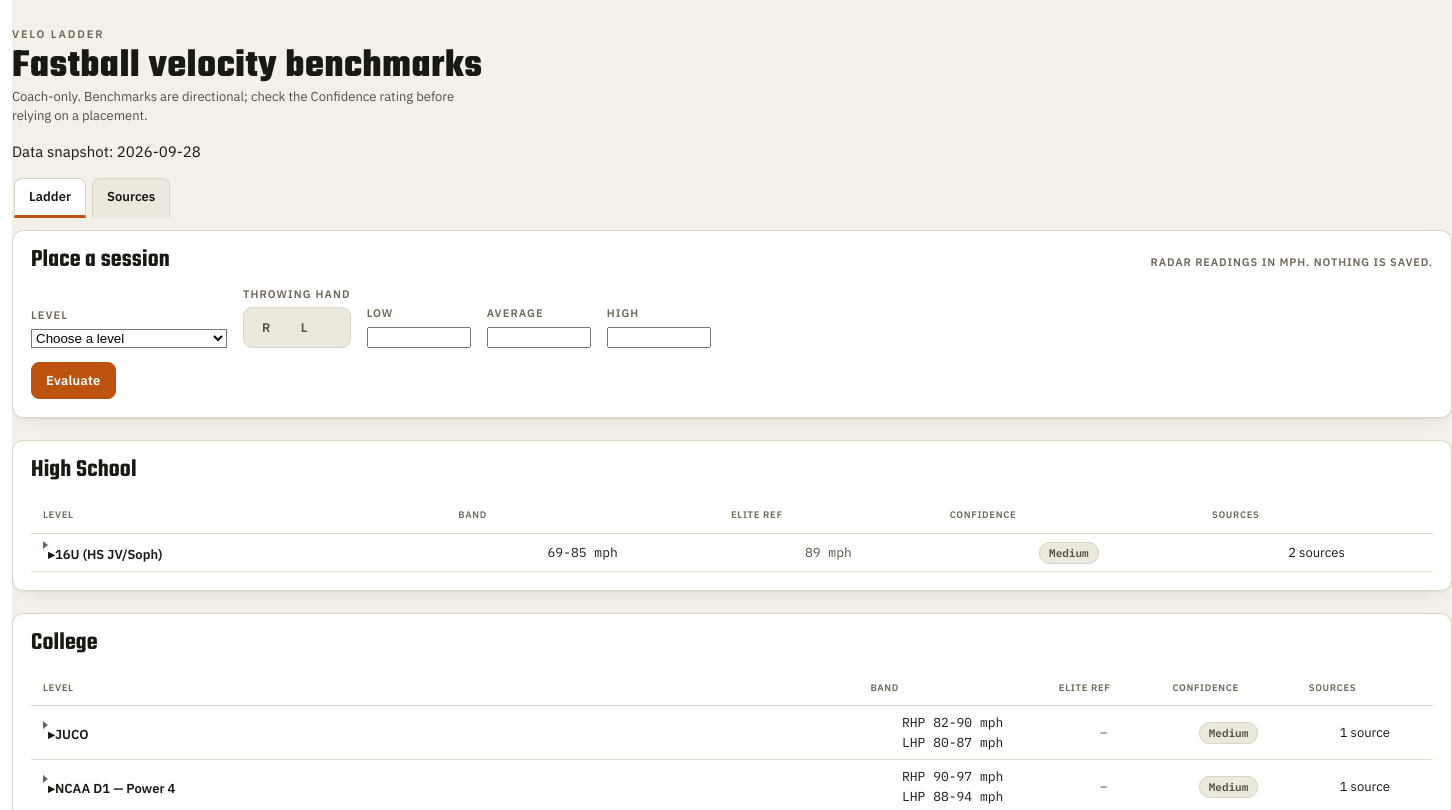
Test: an empty row cannot be evaluated even if the select is forced onto it
Select "MiLB — AAA (No data yet)" in the dropdown labelled "Level": point(129, 338) [31,329,227,348]
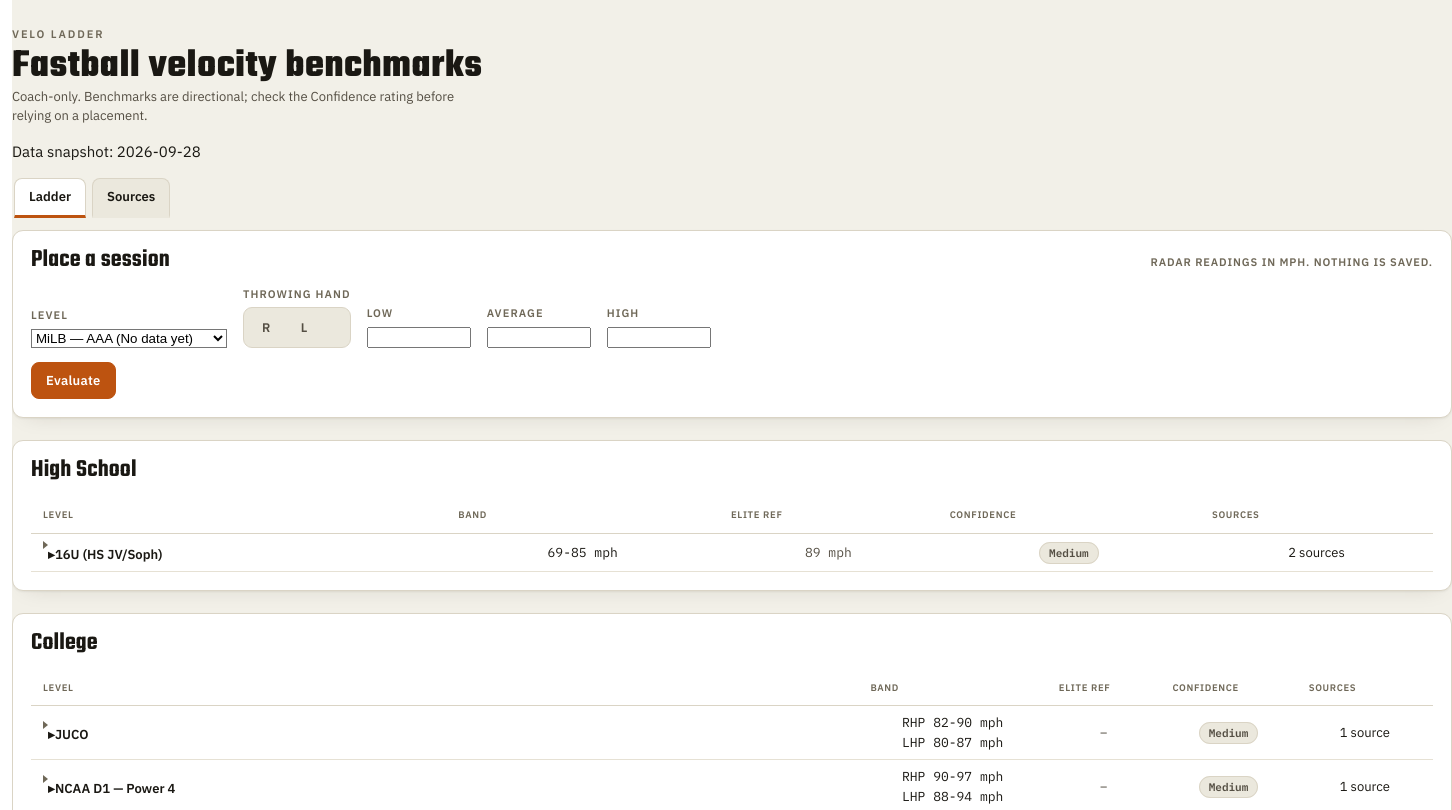
In the number field labelled "Low": point(419, 337) [367,327,471,348], type "74"
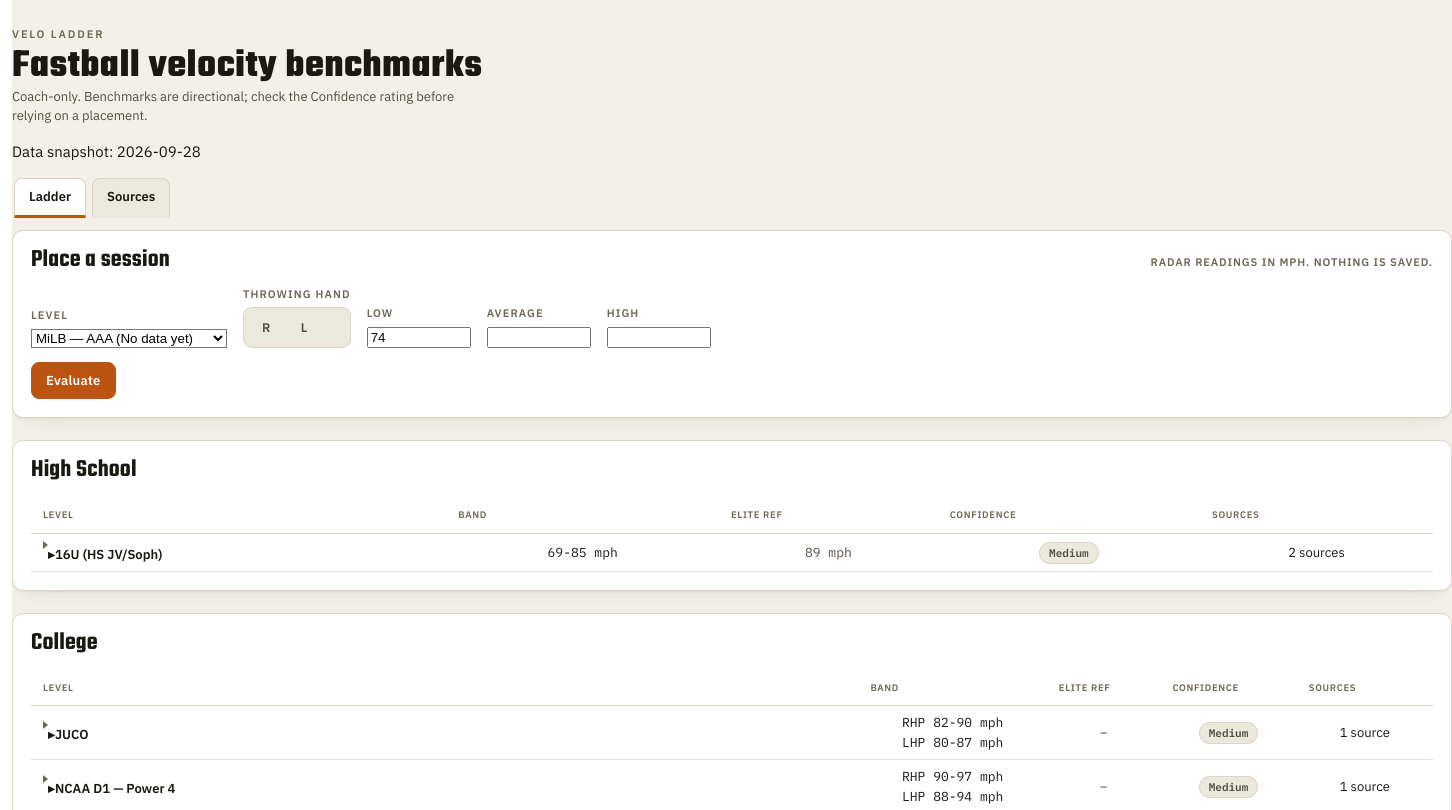
In the number field labelled "Average": point(539, 337) [487,327,591,348], type "79"
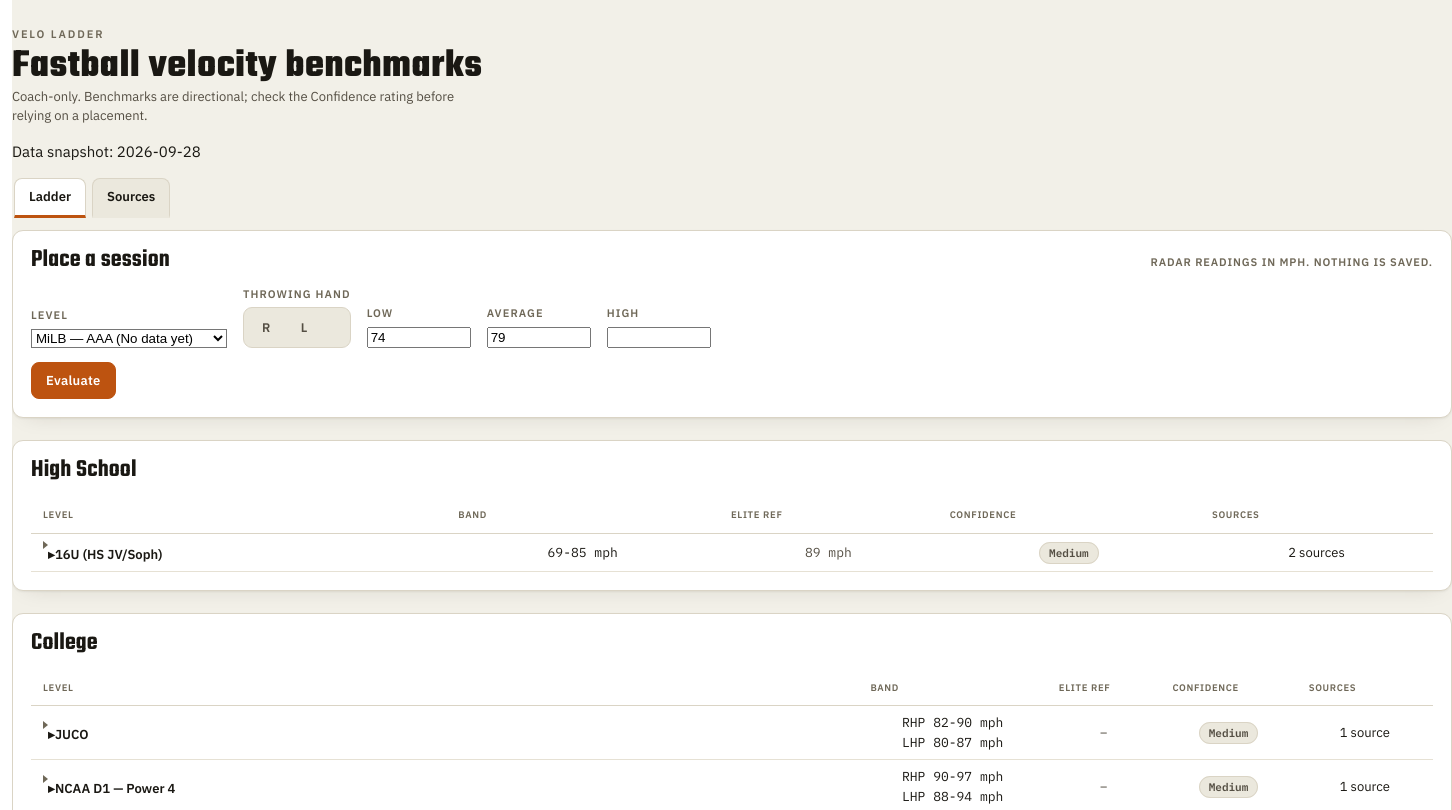
In the number field labelled "High": point(659, 337) [607,327,711,348], type "83"
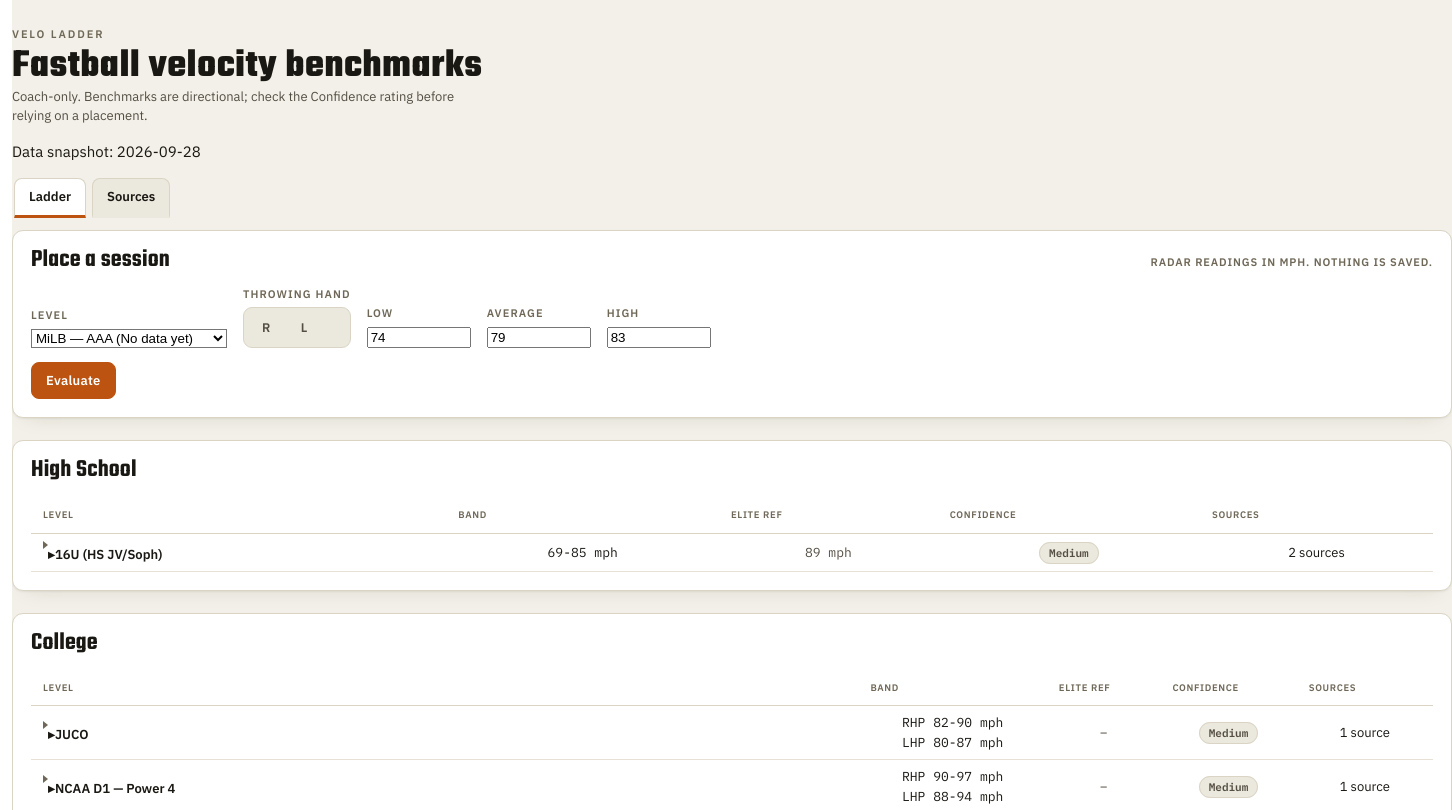
Click the button "Evaluate": point(73, 381) [31,362,116,399]
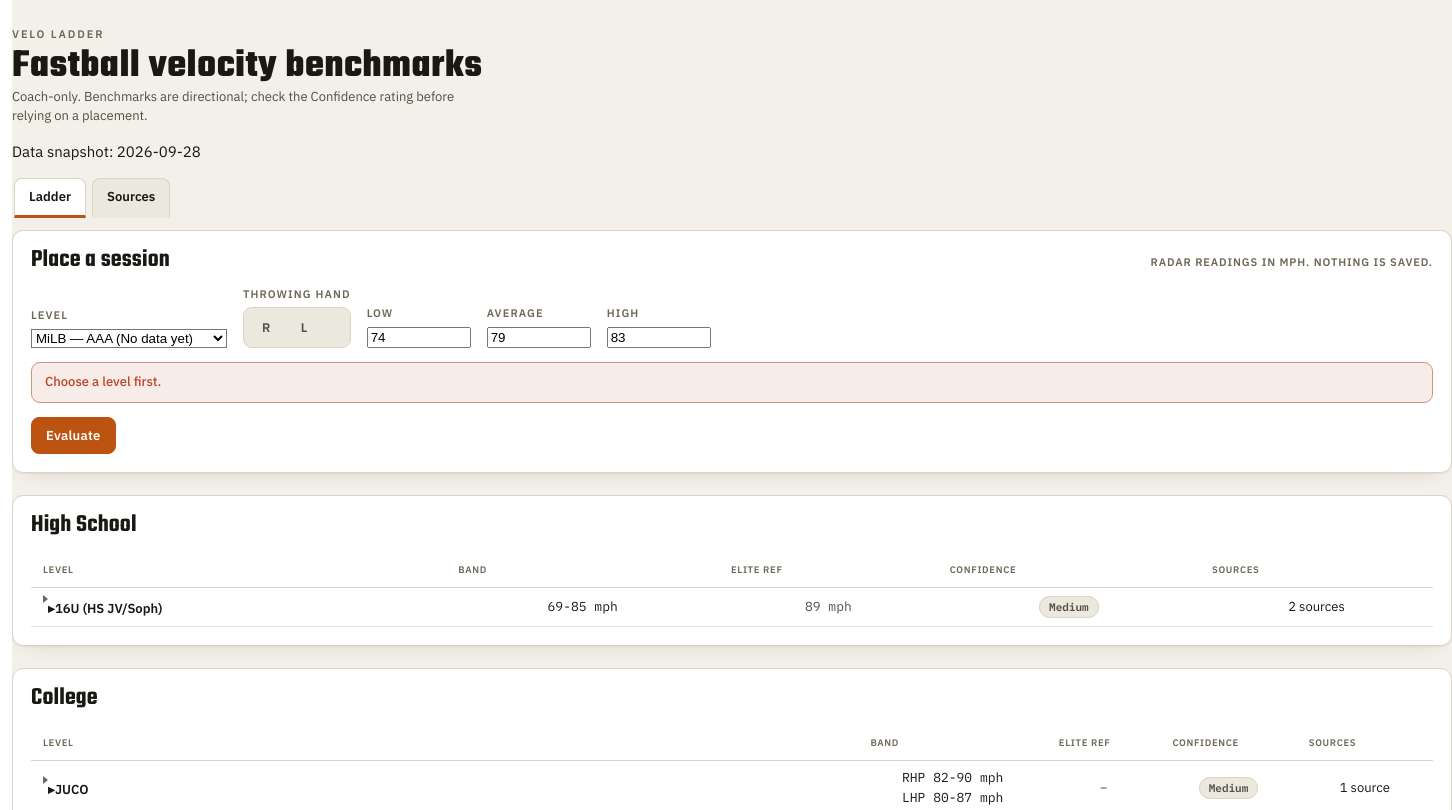
Expected: the message shows "Choose a level", [45,373,161,390]
